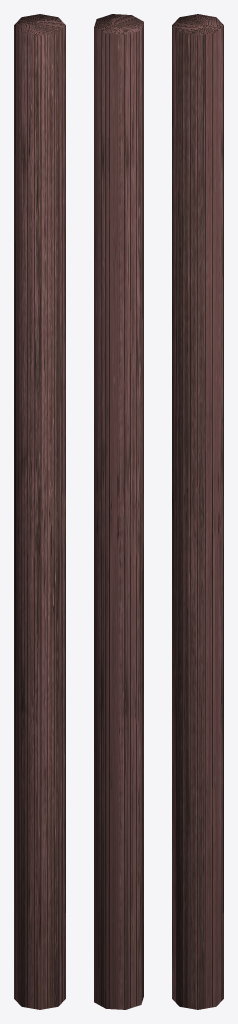
File: PosteDeMadeira.fbx
3 views of the same model, side by side, from view 1: azimuth 90°, elevation 25°; view 2: azimuth 150°, elevation 25°; view 3: azimuth 270°, elevation 25° (orthographic).
Visible parts, largest first — view 1: PosteDeMadeira; view 2: PosteDeMadeira; view 3: PosteDeMadeira.
Boxes of the visible parts, x1,y1,x2,y2 form: PosteDeMadeira: (14,14,65,1009); PosteDeMadeira: (94,14,143,1009); PosteDeMadeira: (172,14,223,1009).
Bounding box in the file's own units: 14.28 × 14.28 × 297.
